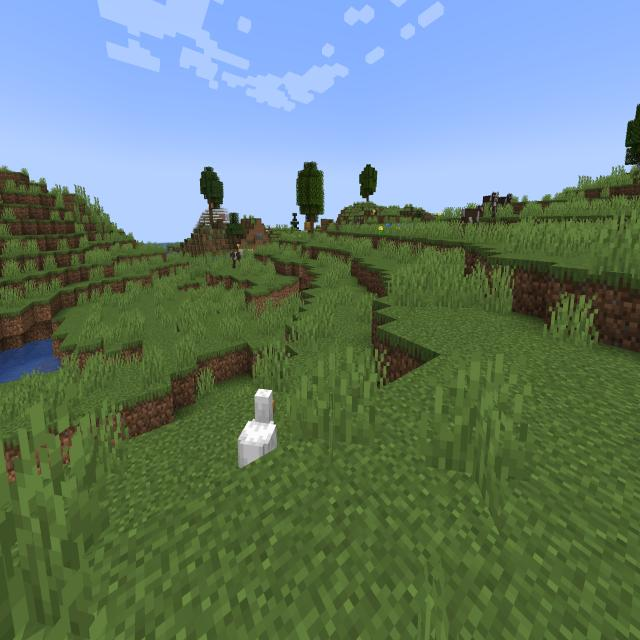bee: (370, 204, 381, 220)
chicken: (226, 375, 282, 472)
cow: (459, 201, 486, 238), (480, 188, 500, 226), (225, 246, 247, 273), (495, 191, 513, 214)
